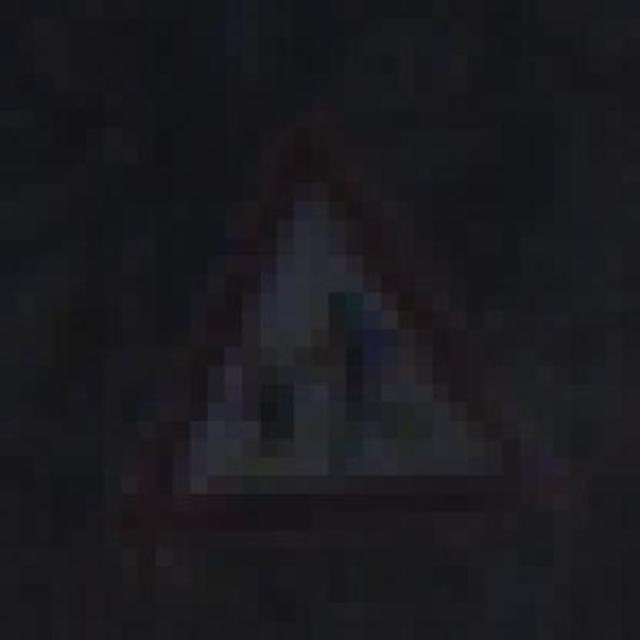Beware of children: (103, 91, 554, 548)
